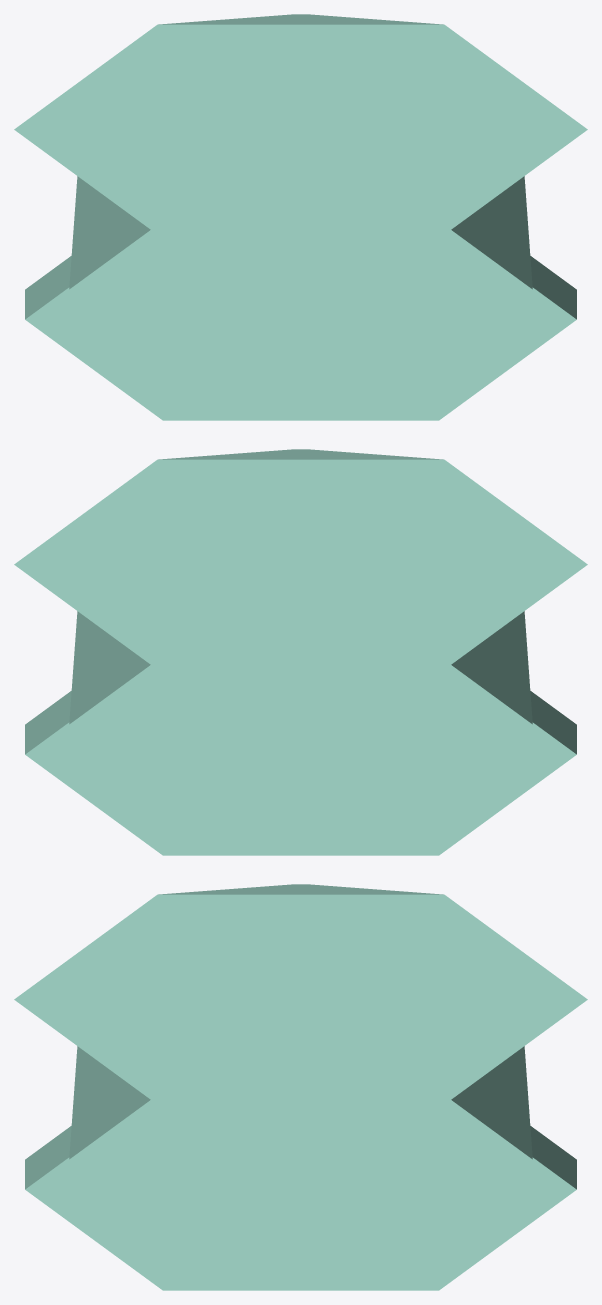
The model's file is seed-pavilion.glb.
The picture shows the model from 3 angles, top to bottom: view 1: azimuth 30°, elevation 25°; view 2: azimuth 150°, elevation 25°; view 3: azimuth 270°, elevation 25°; orthographic projection.
Bounding box in the file's own units: 9.01 × 6 × 10.4.
